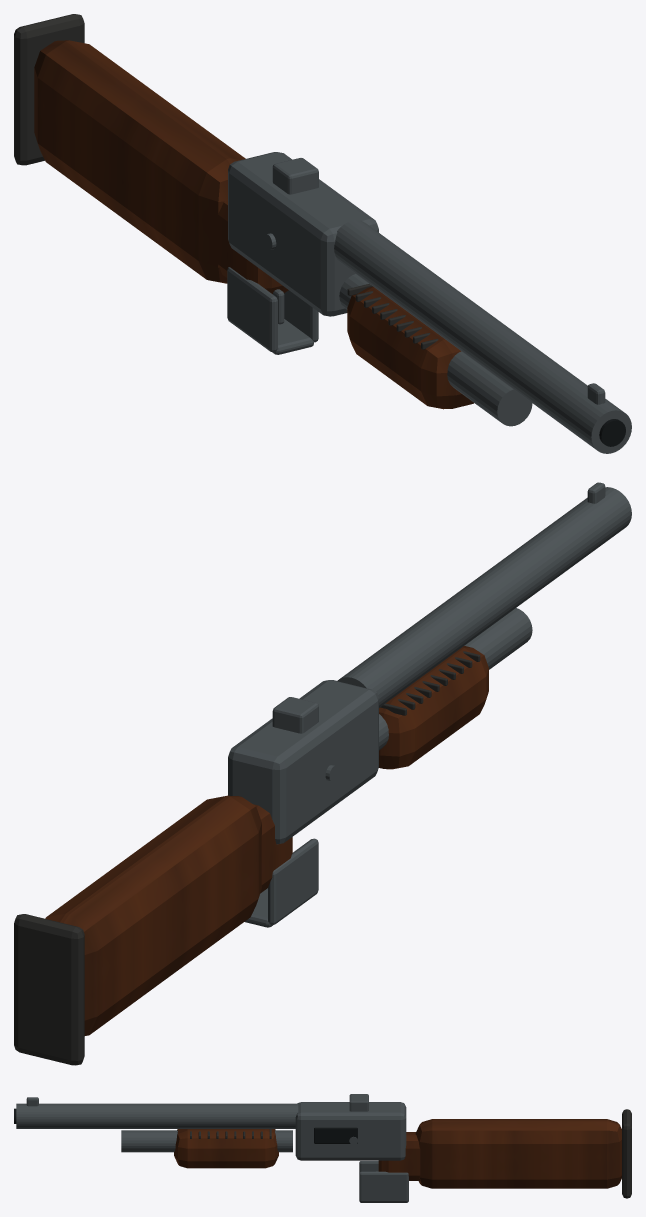
File: shotgun.glb
3 renders of one model, top to bottom at view 1: azimuth 30°, elevation 25°; view 2: azimuth 150°, elevation 25°; view 3: azimuth 270°, elevation 25°, orthographic. The views are drawn at different scales.
Parts seen in each view (by area): view 1: receiver, walnut shoulder stock, pump forearm, ribbed butt plate, pump groove; view 2: receiver, walnut shoulder stock, ribbed butt plate, pump forearm, pump groove; view 3: receiver, walnut shoulder stock, pump forearm, ribbed butt plate, ejection port, pump groove.
Part boxes in pixels (<box>): receiver: <box>227,152,631,453</box>; walnut shoulder stock: <box>34,40,288,293</box>; pump forearm: <box>347,286,473,409</box>; ribbed butt plate: <box>14,14,84,165</box>; pump groove: <box>347,284,438,349</box>; receiver: <box>228,482,631,927</box>; walnut shoulder stock: <box>45,795,292,1035</box>; ribbed butt plate: <box>14,914,84,1065</box>; pump forearm: <box>379,646,488,769</box>; pump groove: <box>380,651,480,715</box>; receiver: <box>16,1094,408,1202</box>; walnut shoulder stock: <box>378,1119,621,1188</box>; pump forearm: <box>174,1129,278,1168</box>; ribbed butt plate: <box>622,1109,631,1198</box>; ejection port: <box>14,1108,357,1143</box>; pump groove: <box>190,1129,271,1138</box>.
Bounding box in the file's own units: 0.078 × 0.2015 × 1.12.
Materials: 4 (1 with a texture image).
